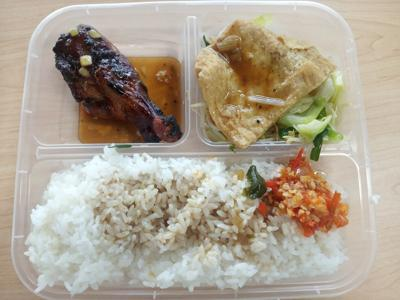jt: (43, 18, 183, 139)
rice: (24, 155, 372, 297)
